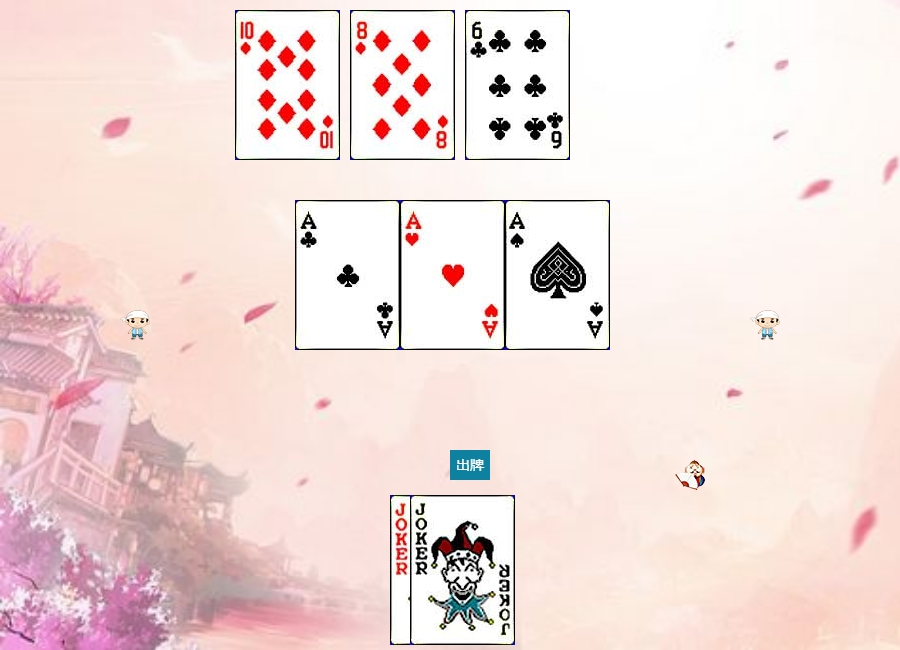10~1: (235, 10, 340, 160)
14~2: (295, 200, 400, 350)
14~3: (400, 200, 505, 350)
14~4: (505, 200, 610, 350)
17~3: (410, 495, 515, 645)
18~4: (390, 495, 495, 645)
6~2: (465, 10, 570, 160)
8~1: (350, 10, 455, 160)
